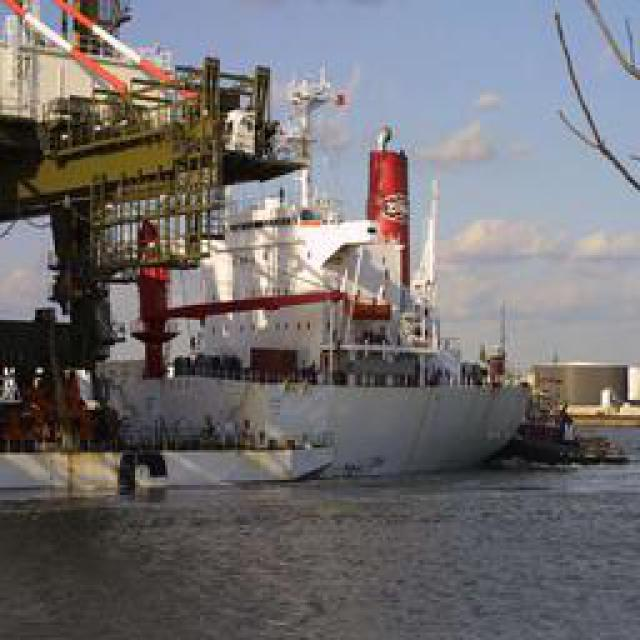Ship: (149, 85, 524, 478)
